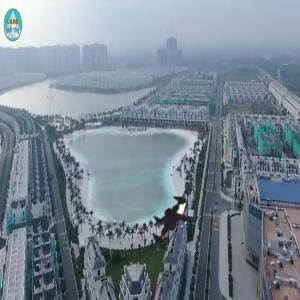drone: (132, 182, 220, 270)
